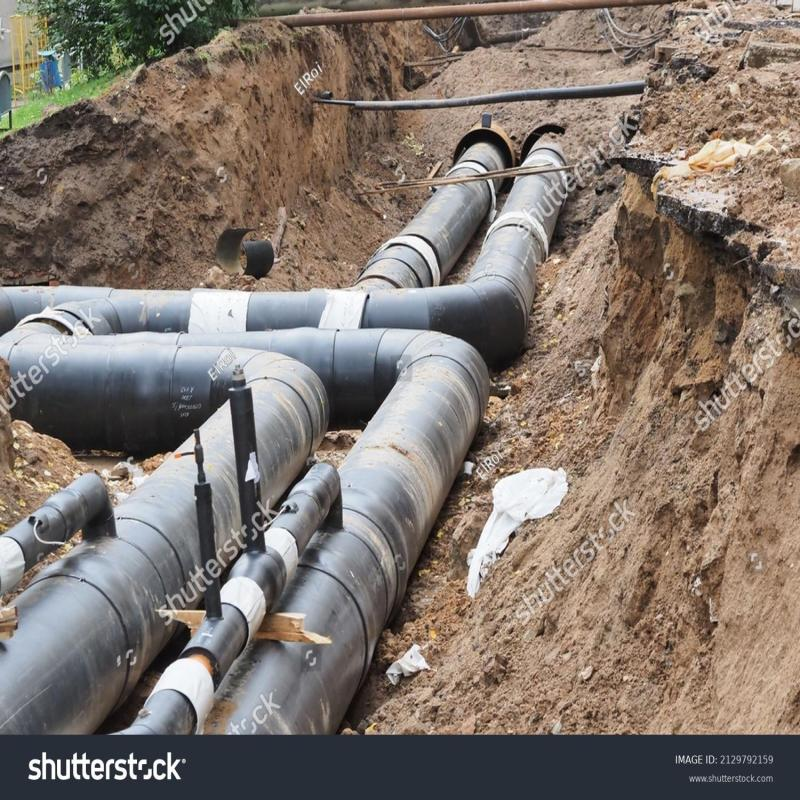Healthy: (27, 263, 432, 746)
